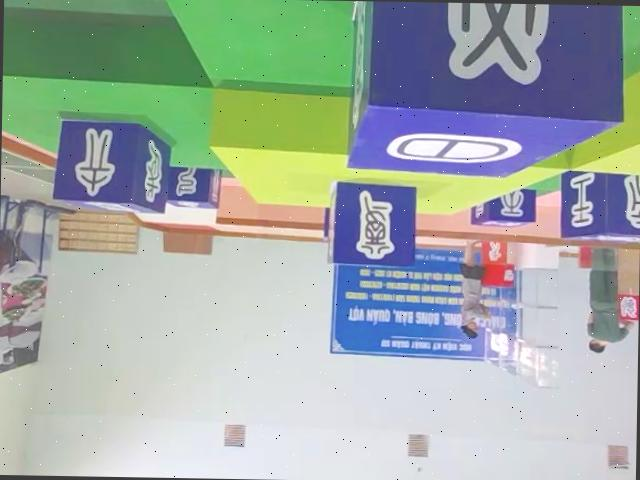R2 Fake Blue: (343, 1, 621, 188), (52, 119, 173, 216), (323, 177, 418, 267), (558, 168, 640, 242), (163, 164, 224, 210), (472, 186, 538, 226)
